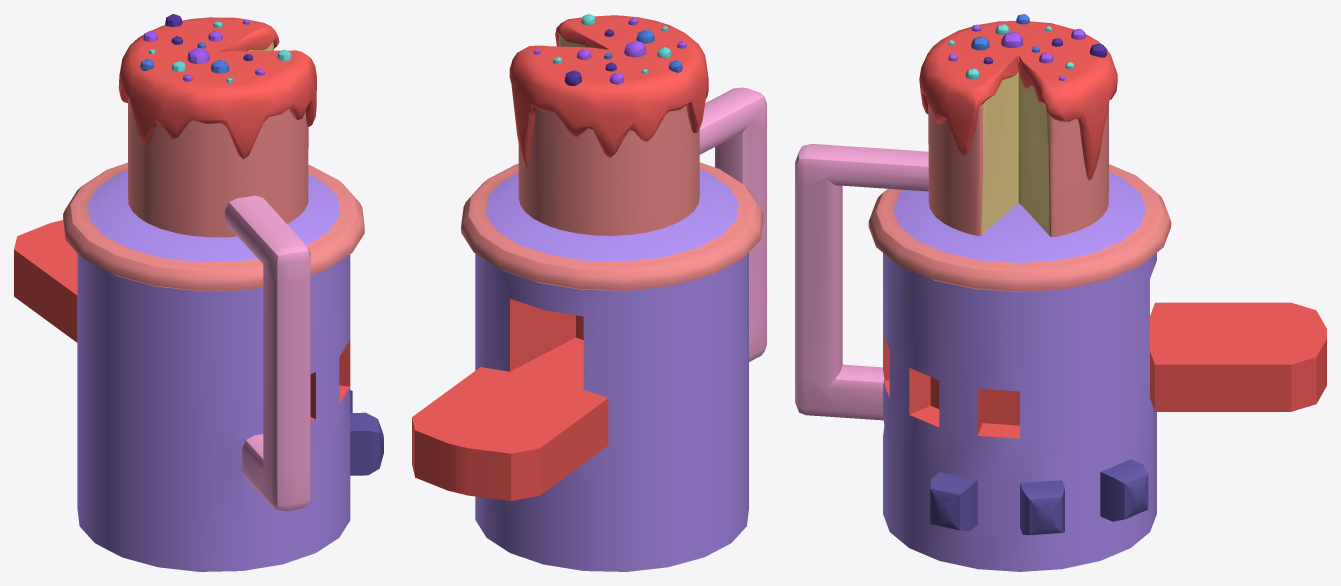
The model's file is Cake-Machine.fbx.
3 views of the same model, side by side, from view 1: azimuth 30°, elevation 25°; view 2: azimuth 150°, elevation 25°; view 3: azimuth 270°, elevation 25° (orthographic).
Visible parts, largest first — view 1: Cake-Machine; view 2: Cake-Machine; view 3: Cake-Machine.
Part boxes in pixels (<box>): Cake-Machine: <box>14,14,383,571</box>; Cake-Machine: <box>412,14,766,571</box>; Cake-Machine: <box>795,14,1326,571</box>.
Bounding box in the file's own units: 317 × 516 × 527.
